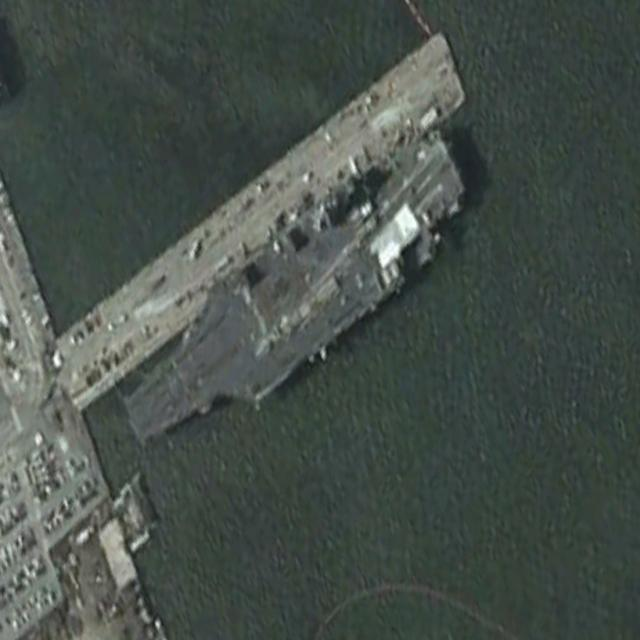Aircraft Carrier: (110, 95, 477, 492)
